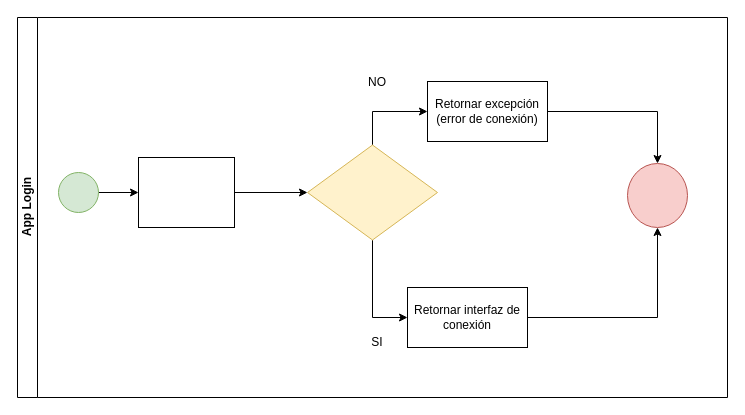
Some shapes in this 745 by 415 pixel diagram are drawn without their labels. The centre of each missing label's shape, as x and y in pixels:
Recibir respuesta del servidor: (x=186, y=192)
¿Se devolvió la interfaz de conexión?: (x=372, y=192)
